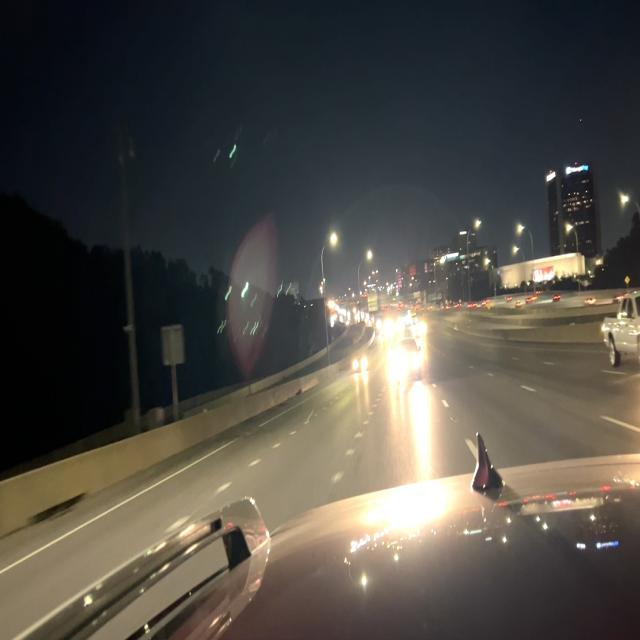back-of-sign: (161, 321, 185, 370)
